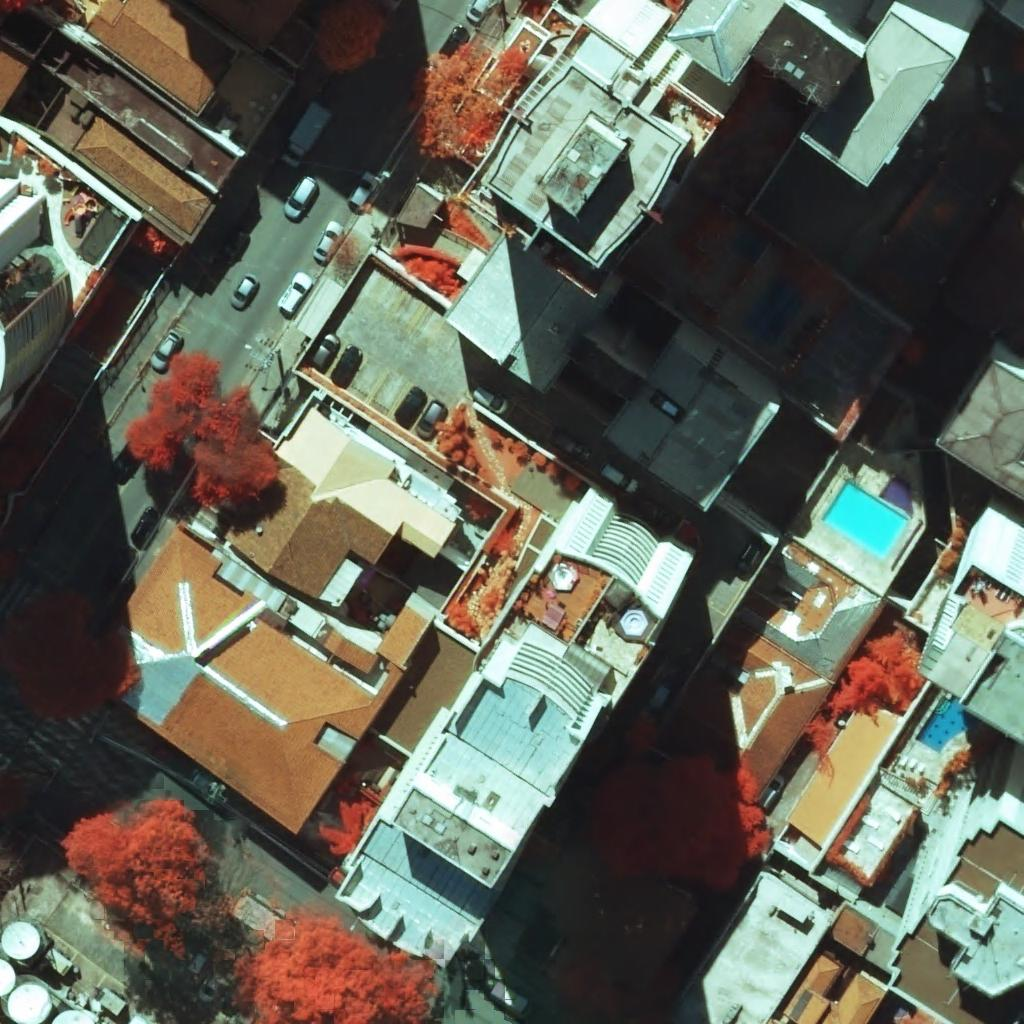pool: (821, 481, 908, 559), (916, 696, 977, 752)
